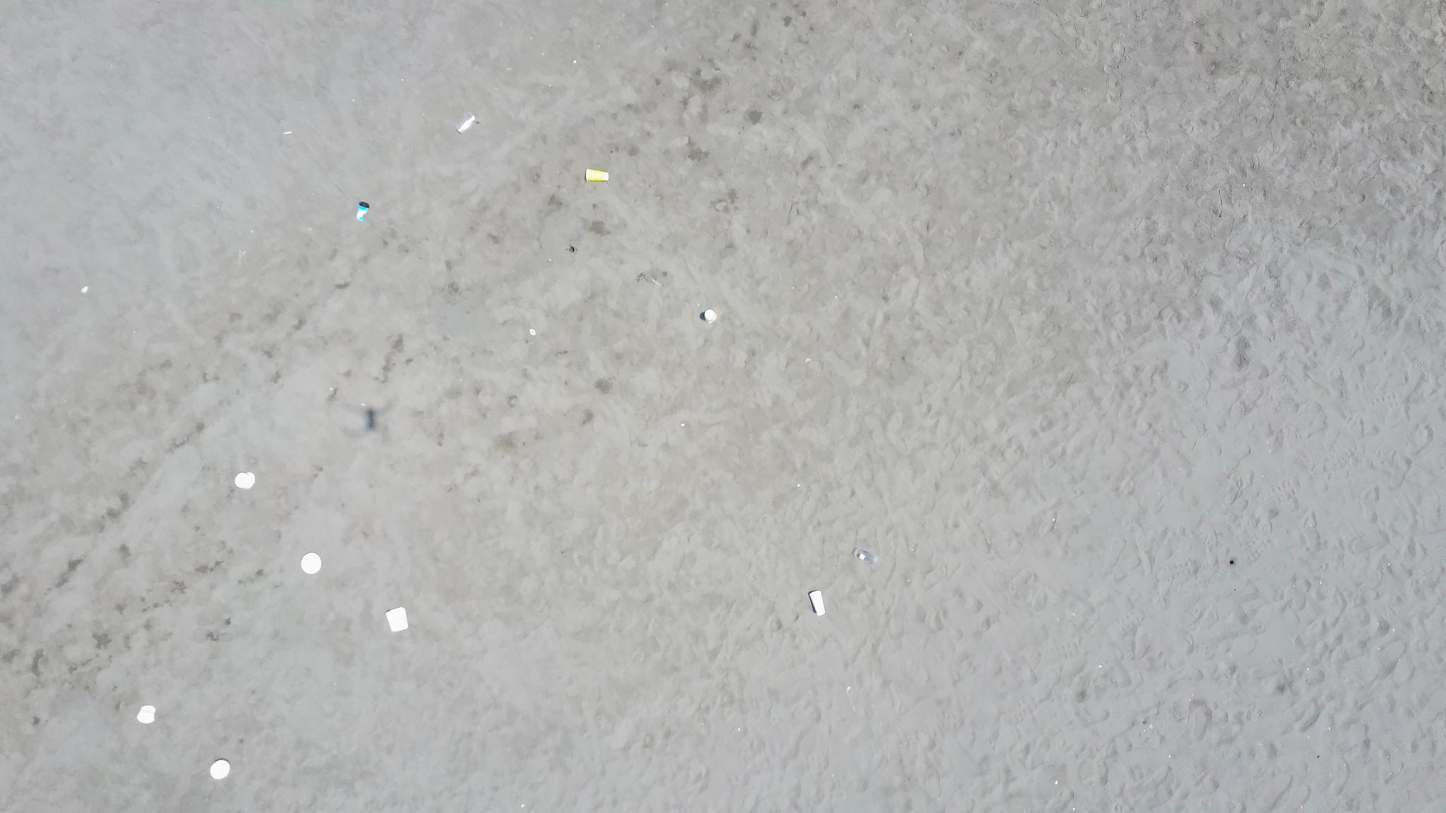Garbage: (385, 607, 407, 632), (635, 271, 662, 287), (852, 546, 877, 563), (301, 553, 321, 574), (808, 589, 823, 615), (210, 759, 229, 778), (233, 471, 255, 487), (136, 705, 155, 723), (458, 114, 477, 132), (364, 407, 376, 430), (355, 201, 368, 220), (585, 169, 607, 180), (700, 308, 717, 321), (647, 275, 662, 287), (282, 130, 292, 135), (528, 328, 535, 335), (80, 286, 88, 292)
